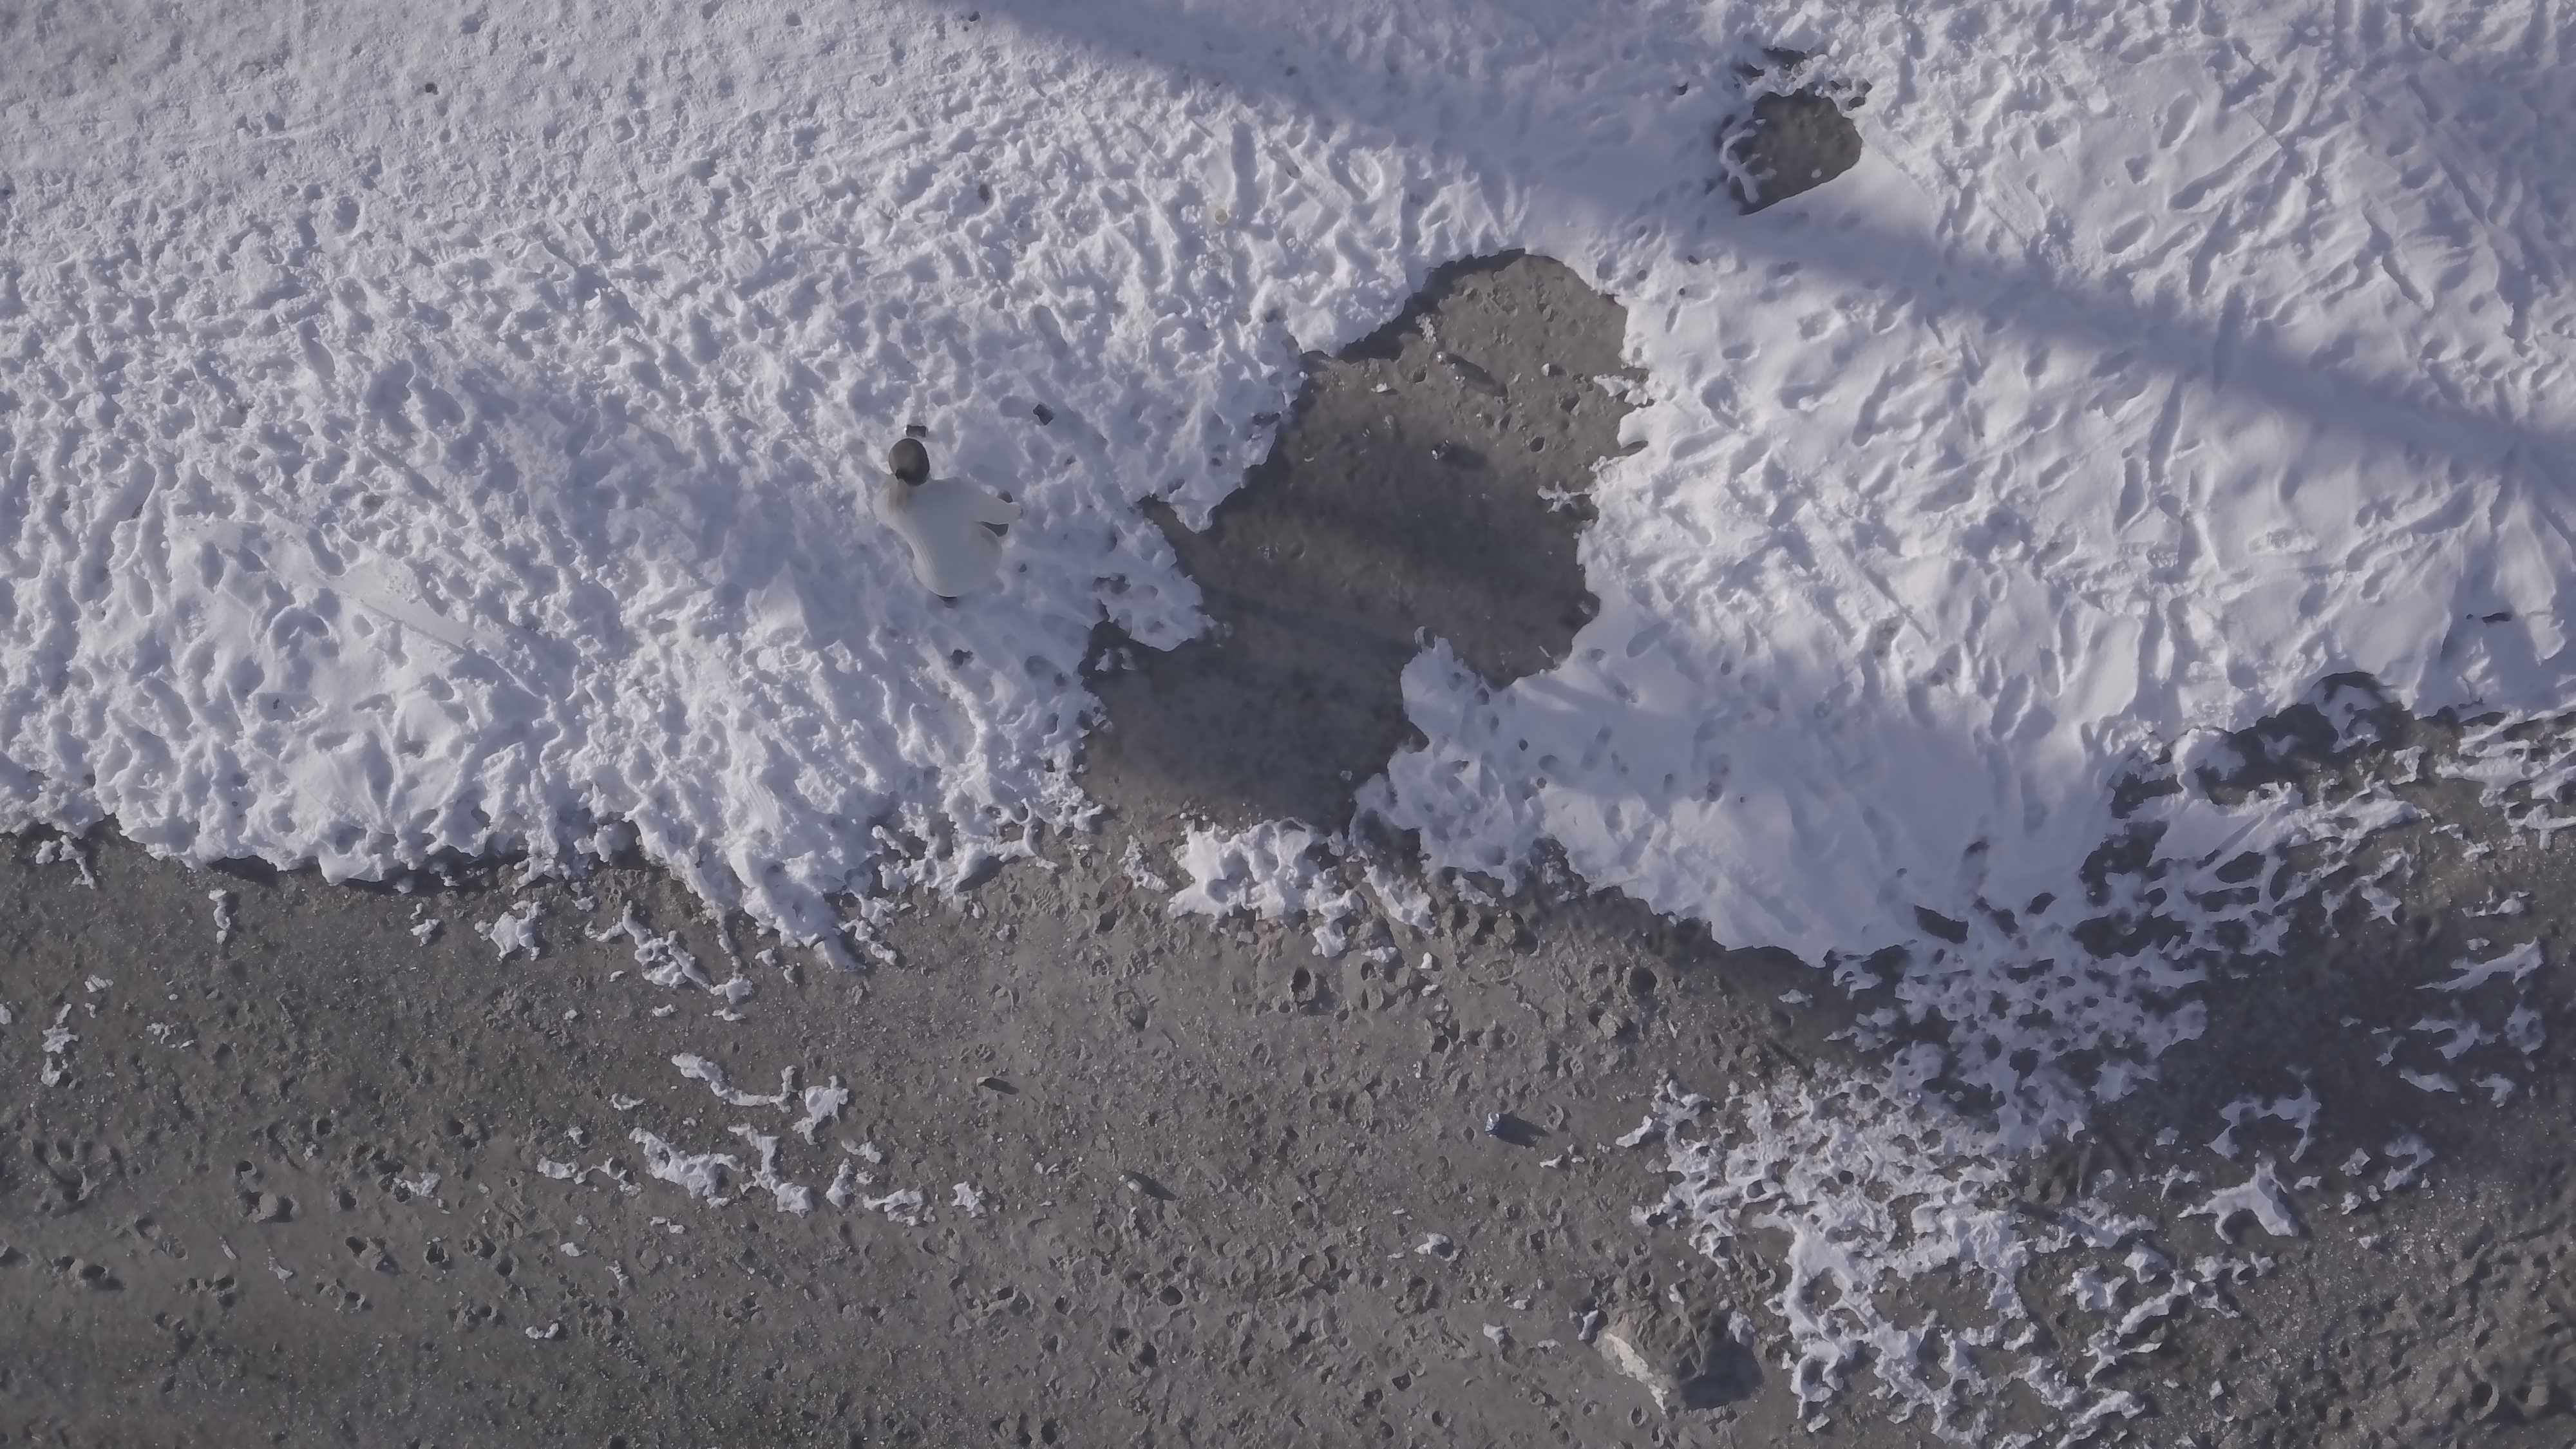Can: (1484, 1111, 1506, 1139), (1033, 403, 1054, 428), (1431, 439, 1453, 460), (904, 425, 931, 439)
PlasticBottle: (1433, 349, 1468, 386), (1115, 1169, 1148, 1201)
